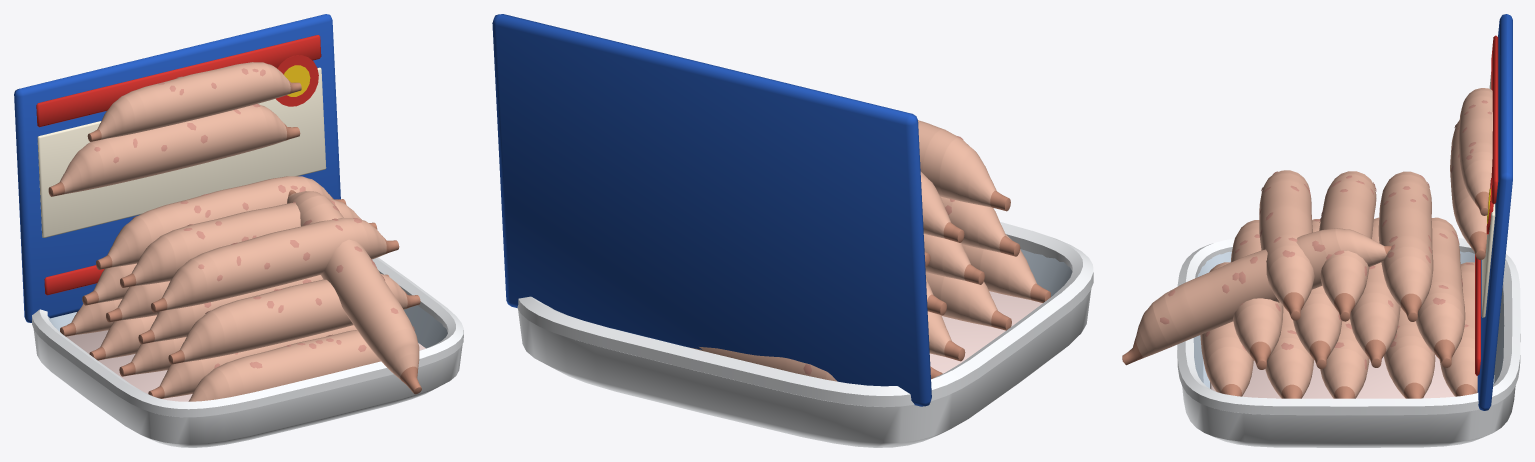
Rendered from dispenser_sausages.glb.
3 renders of one model, left to right at view 1: azimuth 30°, elevation 25°; view 2: azimuth 150°, elevation 25°; view 3: azimuth 270°, elevation 25°, orthographic. The views are drawn at different scales.
Parts seen in each view (by area): view 1: DispenserSausages; view 2: DispenserSausages; view 3: DispenserSausages.
Boxes of the visible parts, x1,y1,x2,y2 form: DispenserSausages: (14, 14, 463, 447); DispenserSausages: (492, 14, 1093, 447); DispenserSausages: (1122, 14, 1520, 447).
Bounding box in the file's own units: 5.94 × 4.54 × 5.87.
